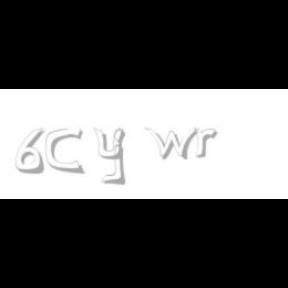6: (16, 128, 44, 176)
C: (46, 128, 82, 174)
j: (110, 128, 140, 186)
r: (194, 128, 220, 158)
u: (94, 128, 128, 160)
w: (144, 128, 204, 160)
